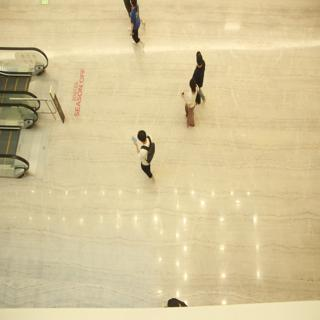person: (130, 122, 167, 186), (176, 72, 205, 137), (193, 47, 212, 100)
